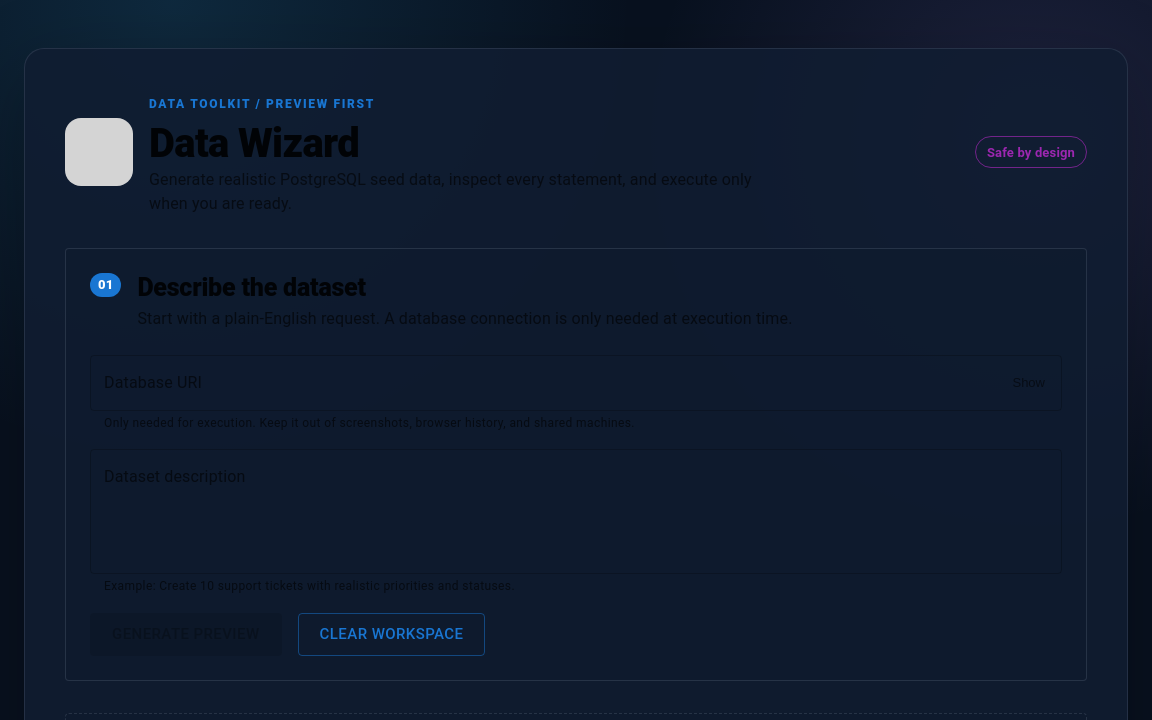
Test: DataRequest › clears the URI when the workspace is cleared
The width and height of the screenshot is (1152, 720).
Type "postgres://user:secret@localhost/test" into the password field named "PostgreSQL connection URI" at (544, 383), box [90, 355, 998, 411]
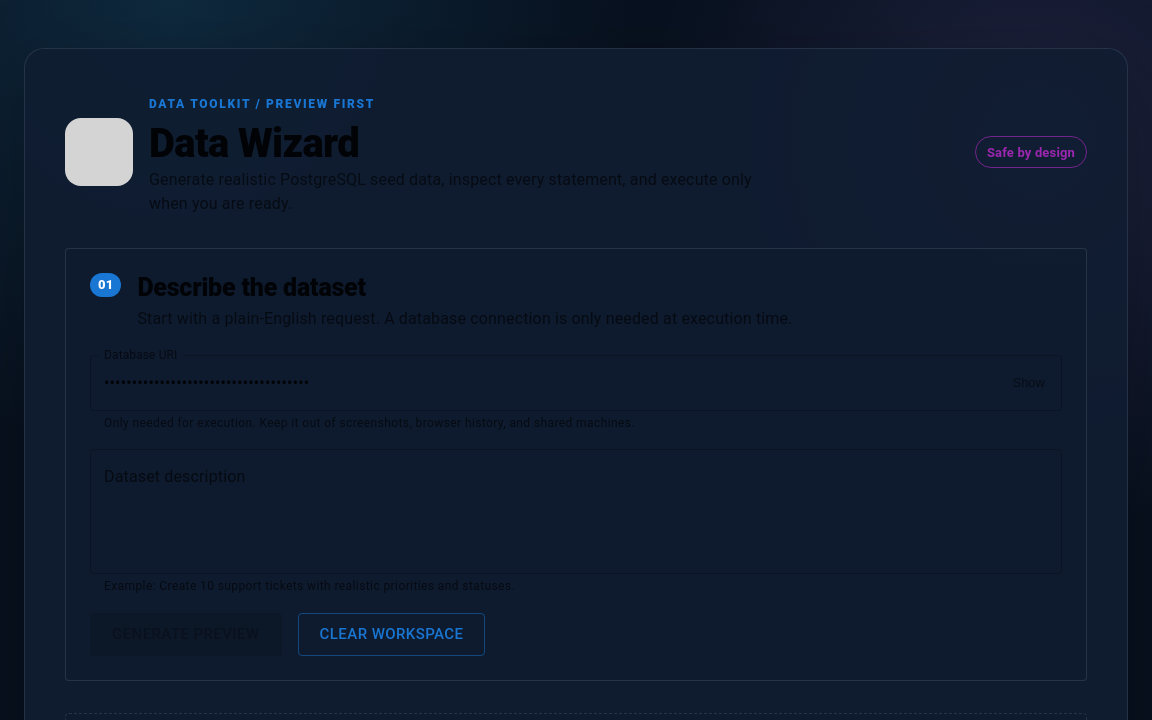
Click the button "Clear workspace" at (392, 635), box [298, 613, 485, 656]
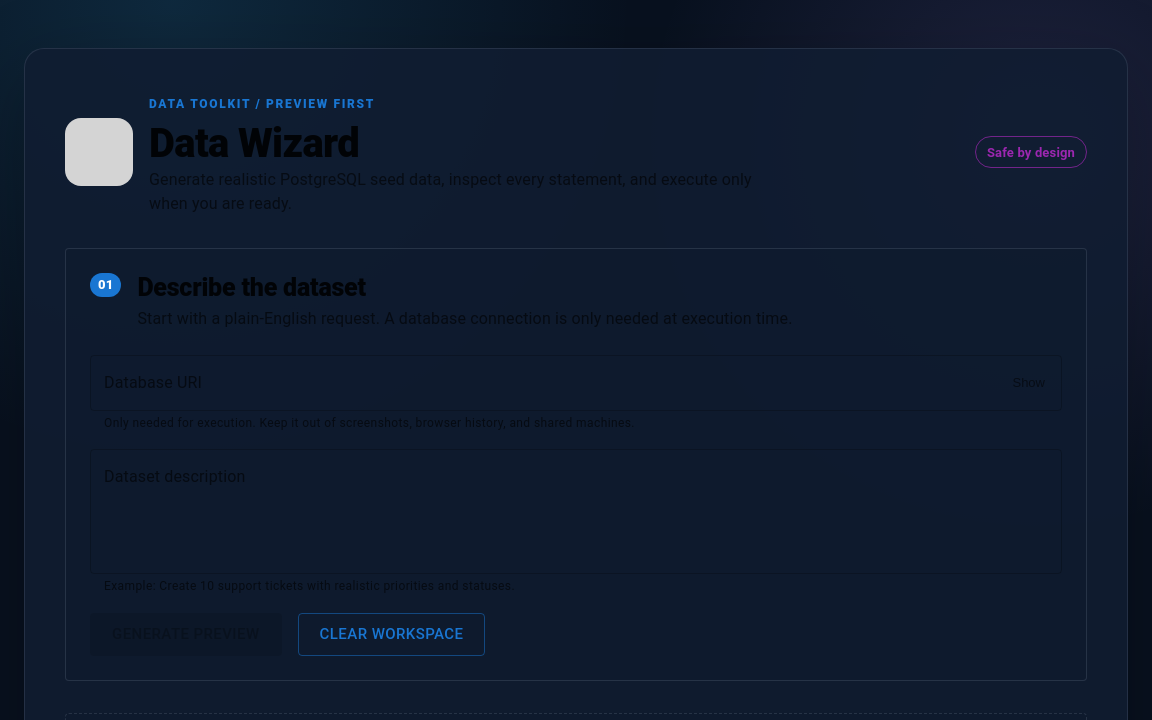
Expected: the password field named "PostgreSQL connection URI" is empty, [90, 355, 998, 411]
